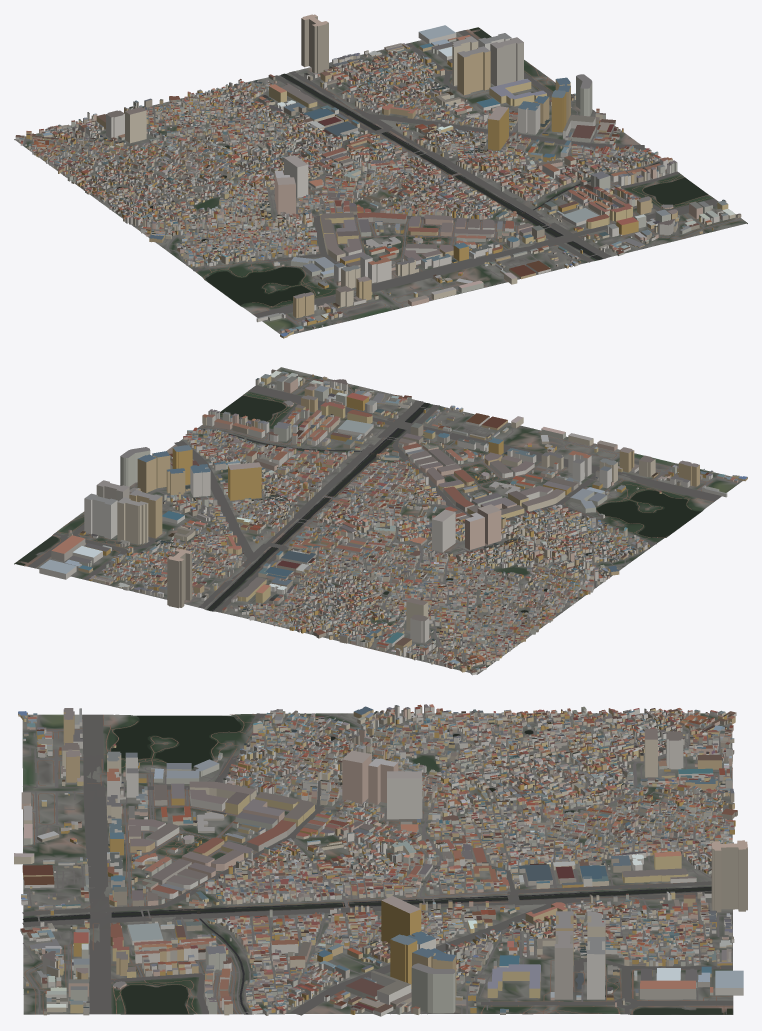
3 views of the same model, one above another, from view 1: azimuth 30°, elevation 25°; view 2: azimuth 150°, elevation 25°; view 3: azimuth 270°, elevation 25° (orthographic). The views are drawn at different scales.
Visible parts, largest first — view 1: buildings, ground, roads, water; view 2: buildings, ground, roads, water; view 3: buildings, ground, roads, water.
Boxes of the visible parts, x1=… form: buildings: x1=15, y1=14, x2=741, y2=338; ground: x1=14, y1=28, x2=747, y2=334; roads: x1=15, y1=29, x2=742, y2=331; water: x1=117, y1=27, x2=707, y2=305; buildings: x1=39, y1=369, x2=747, y2=675; ground: x1=14, y1=367, x2=741, y2=674; roads: x1=18, y1=370, x2=742, y2=673; water: x1=15, y1=395, x2=700, y2=612; buildings: x1=14, y1=704, x2=747, y2=1016; ground: x1=22, y1=713, x2=733, y2=1014; roads: x1=22, y1=713, x2=733, y2=1015; water: x1=23, y1=715, x2=732, y2=1014.
Size of the model in its own units: 1423 by 141 by 1450.
